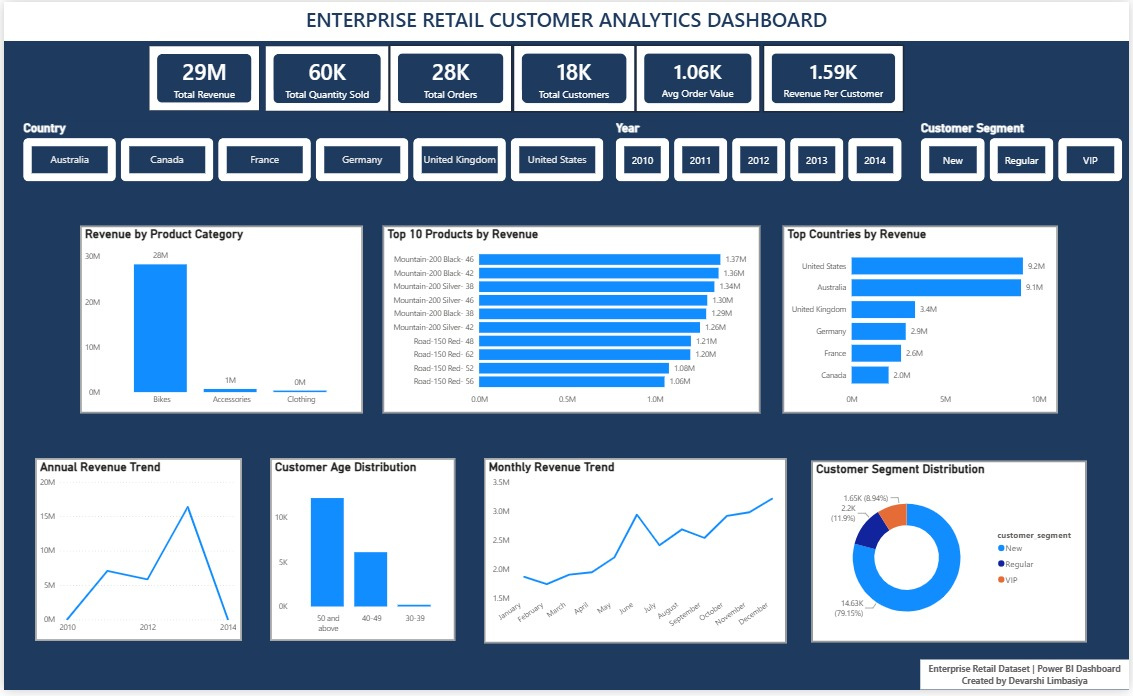

This screenshot's page, from the dashboard's own definition file:
{"tool":"powerbi","page":{"name":"Page 1","canvas":[1800,1100],"ordinal":0},"visuals":[{"type":"cardVisual","fields":{"Data":["datasets.Total Sales"]},"box":[232,70,177,104],"z":0},{"type":"cardVisual","fields":{"Data":["datasets.Total Quantity"]},"box":[418,70,198,105],"z":1000},{"type":"cardVisual","fields":{"Data":["datasets.Total Orders"]},"box":[616.2,68.8,197.5,108.8],"z":2000},{"type":"cardVisual","fields":{"Data":["datasets.Sales Per Customer"]},"box":[1213.8,68.8,226.2,108.8],"z":3000},{"type":"cardVisual","fields":{"Data":["datasets.Total Customers"]},"box":[813.8,68.8,196.2,108.8],"z":4000},{"type":"cardVisual","fields":{"Data":["datasets.Average Order Value"]},"box":[1010,68.8,200,108.8],"z":5000},{"type":"lineChart","title":"Annual Revenue Trend","fields":{"Category":["gold_fact_sales.order_date.Variation.Date Hierarchy.Year","gold_fact_sales.order_date.Variation.Date Hierarchy.Month"],"Y":["Sum(gold_fact_sales.sales_amount)"]},"box":[50,730,330,292],"z":6000},{"type":"clusteredBarChart","title":"Top Countries by Revenue","fields":{"Y":["Sum(gold_fact_sales.sales_amount)"],"Category":["gold_dim_customers.country"]},"box":[1246,358,440,300],"z":7000},{"type":"donutChart","title":"Customer Segment Distribution","fields":{"Category":["gold_report_customers.customer_segment"],"Y":["CountNonNull(gold_report_customers.customer_key)"]},"box":[1292,734,440,290],"z":8000},{"type":"clusteredColumnChart","title":"Revenue by Product Category","fields":{"Category":["gold_dim_products.category"],"Y":["Sum(gold_fact_sales.sales_amount)"]},"box":[122,358,452,300],"z":9000},{"type":"clusteredColumnChart","title":"Customer Age Distribution","fields":{"Category":["gold_report_customers.age_group"],"Y":["CountNonNull(gold_report_customers.customer_key)"]},"box":[426,730,296,292],"z":10000},{"type":"textbox","box":[0,0,1800,62],"z":11000},{"type":"advancedSlicerVisual","title":"Country","fields":{"Values":["gold_dim_customers.country"]},"box":[30,190,934,98],"z":12000},{"type":"advancedSlicerVisual","title":"Customer Segment","fields":{"Values":["gold_report_customers.customer_segment"]},"box":[1466,190,324,98],"z":13000},{"type":"advancedSlicerVisual","fields":{"Values":["gold_fact_sales.order_date.Variation.Date Hierarchy.Year"]},"box":[978,190,462,98],"z":14000},{"type":"clusteredBarChart","title":"Top 10 Products by Revenue","fields":{"Y":["Sum(gold_report_products.total_sales)"],"Category":["gold_report_products.product_name"]},"box":[606,358,604,300],"z":15000},{"type":"lineChart","title":"Monthly Revenue Trend","fields":{"Category":["gold_fact_sales.order_date.Variation.Date Hierarchy.Month"],"Y":["Sum(gold_fact_sales.sales_amount)"]},"box":[768,730,484,296],"z":16000},{"type":"textbox","box":[1466,1052,334,48],"z":17000}]}

Visuals, with their boxes in screenshot pixels (x1, y1, x2, y2), scaled from the page's 1800x1100 canvas onto the 1133x696 screenshot:
cardVisual - datasets.Total Sales: {"left": 146, "top": 44, "right": 257, "bottom": 110}
cardVisual - datasets.Total Quantity: {"left": 263, "top": 44, "right": 388, "bottom": 111}
cardVisual - datasets.Total Orders: {"left": 388, "top": 44, "right": 512, "bottom": 112}
cardVisual - datasets.Sales Per Customer: {"left": 764, "top": 44, "right": 906, "bottom": 112}
cardVisual - datasets.Total Customers: {"left": 512, "top": 44, "right": 636, "bottom": 112}
cardVisual - datasets.Average Order Value: {"left": 636, "top": 44, "right": 762, "bottom": 112}
"Annual Revenue Trend" lineChart: {"left": 31, "top": 462, "right": 239, "bottom": 647}
"Top Countries by Revenue" clusteredBarChart: {"left": 784, "top": 227, "right": 1061, "bottom": 416}
"Customer Segment Distribution" donutChart: {"left": 813, "top": 464, "right": 1090, "bottom": 648}
"Revenue by Product Category" clusteredColumnChart: {"left": 77, "top": 227, "right": 361, "bottom": 416}
"Customer Age Distribution" clusteredColumnChart: {"left": 268, "top": 462, "right": 454, "bottom": 647}
textbox: {"left": 0, "top": 0, "right": 1132, "bottom": 39}
"Country" advancedSlicerVisual: {"left": 19, "top": 120, "right": 607, "bottom": 182}
"Customer Segment" advancedSlicerVisual: {"left": 923, "top": 120, "right": 1127, "bottom": 182}
advancedSlicerVisual - gold_fact_sales.order_date.Variation.Date Hierarchy.Year: {"left": 616, "top": 120, "right": 906, "bottom": 182}
"Top 10 Products by Revenue" clusteredBarChart: {"left": 381, "top": 227, "right": 762, "bottom": 416}
"Monthly Revenue Trend" lineChart: {"left": 483, "top": 462, "right": 788, "bottom": 649}
textbox: {"left": 923, "top": 666, "right": 1132, "bottom": 695}
